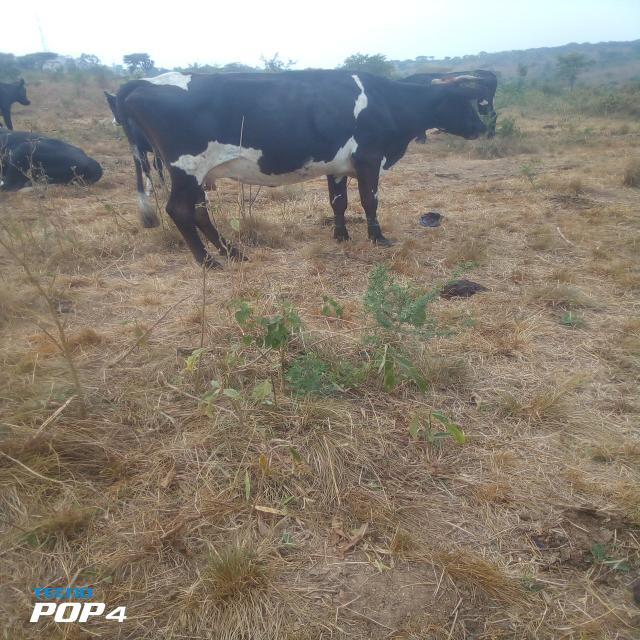cow: (84, 53, 554, 282)
